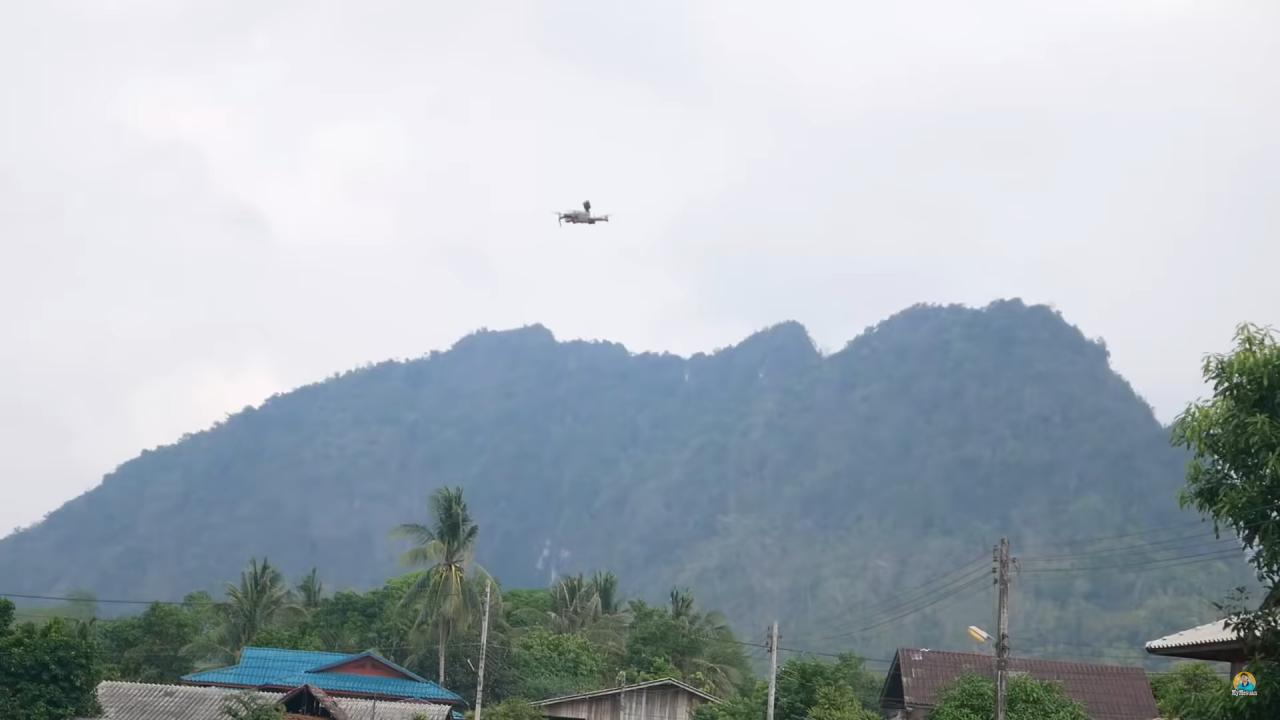Drone: (538, 184, 624, 246)
